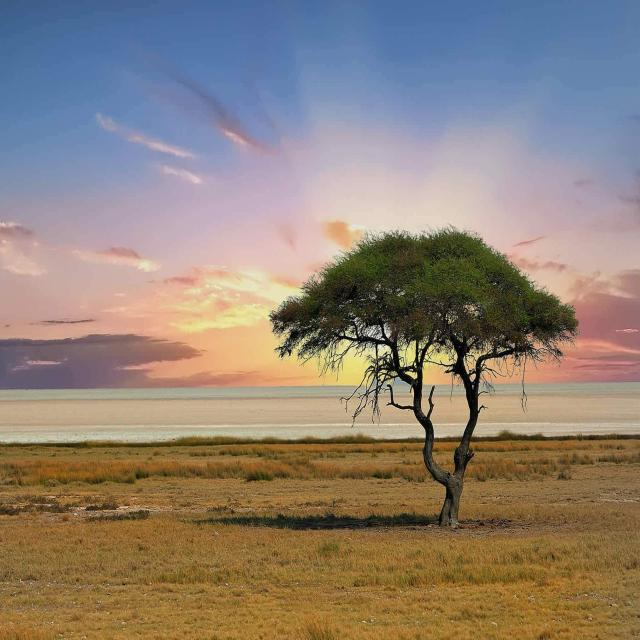Acacia: (272, 188, 564, 510)
